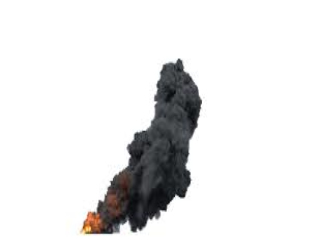smoke: (88, 56, 201, 224)
